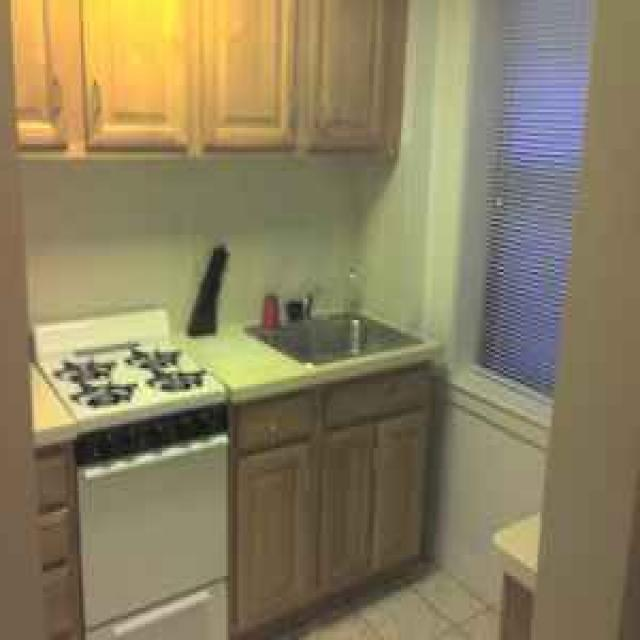2001: (480, 8, 599, 400)
2036: (171, 291, 448, 408)
cupboard: (34, 357, 81, 629), (493, 501, 546, 637)
cupboard crop: (11, 0, 407, 155), (235, 357, 433, 637)
floor -X: (47, 509, 531, 637)
sink basin: (252, 304, 422, 365)
stove burner: (32, 307, 230, 637)
wall clock: (13, 0, 361, 635), (354, 3, 602, 621), (533, 0, 638, 637), (4, 3, 43, 637)
